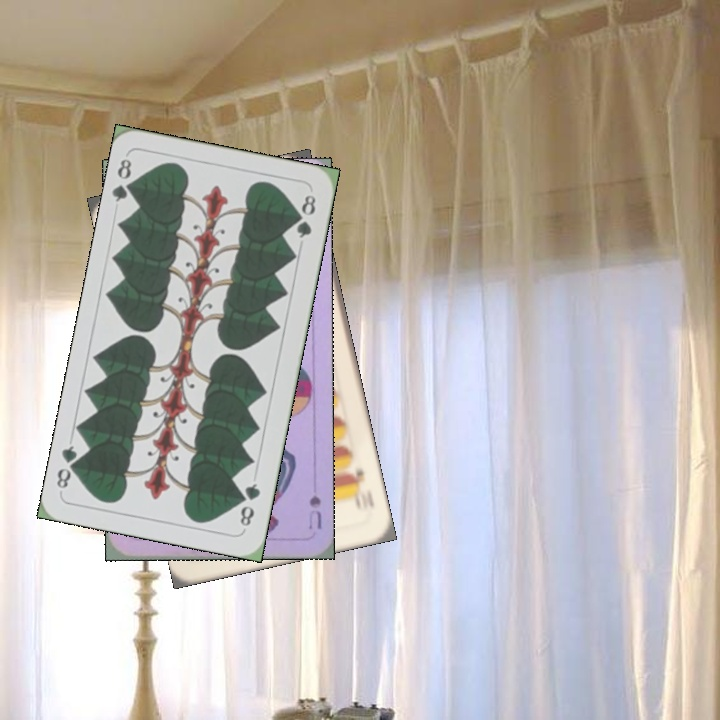E10: (346, 463, 372, 512)
G8: (108, 154, 140, 205), (236, 479, 263, 529)
SU: (304, 491, 324, 531)
